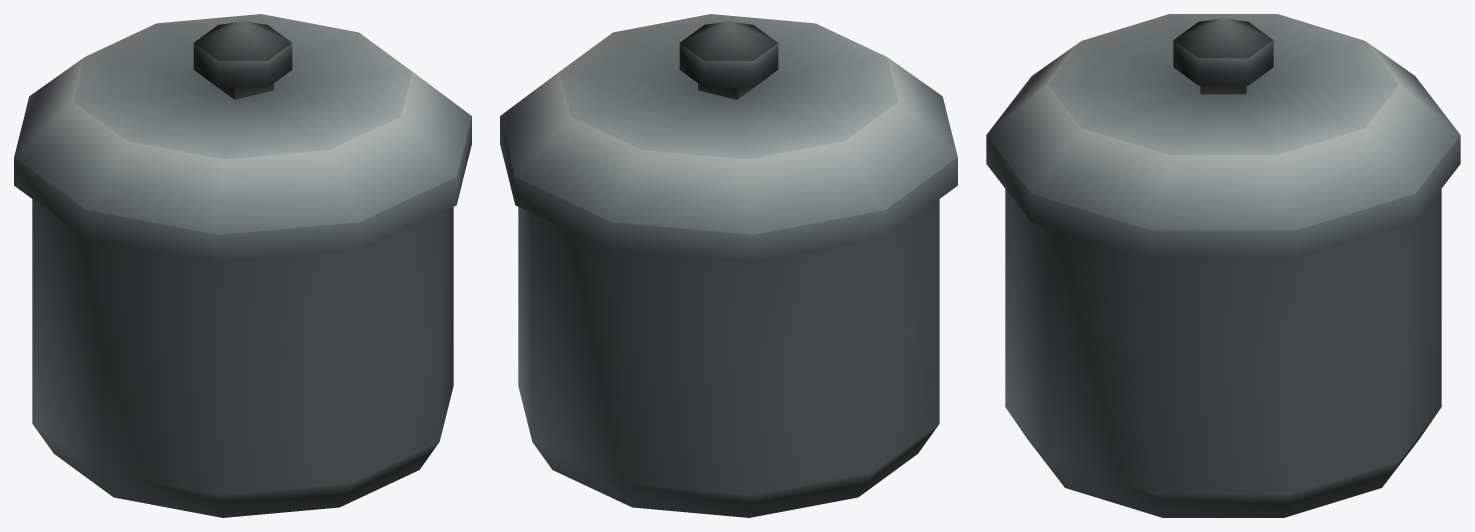
File: Pot_1A.fbx
3 renders of one model, left to right at view 1: azimuth 30°, elevation 25°; view 2: azimuth 150°, elevation 25°; view 3: azimuth 270°, elevation 25°, orthographic.
Parts seen in each view (by area): view 1: Pot_1A; view 2: Pot_1A; view 3: Pot_1A.
Part boxes in pixels (box(x1,y1,x2,y2)): Pot_1A: box(14, 14, 471, 517); Pot_1A: box(500, 14, 957, 517); Pot_1A: box(986, 14, 1460, 517).
Size of the model in its own units: 34.57 by 35.61 by 36.35.
